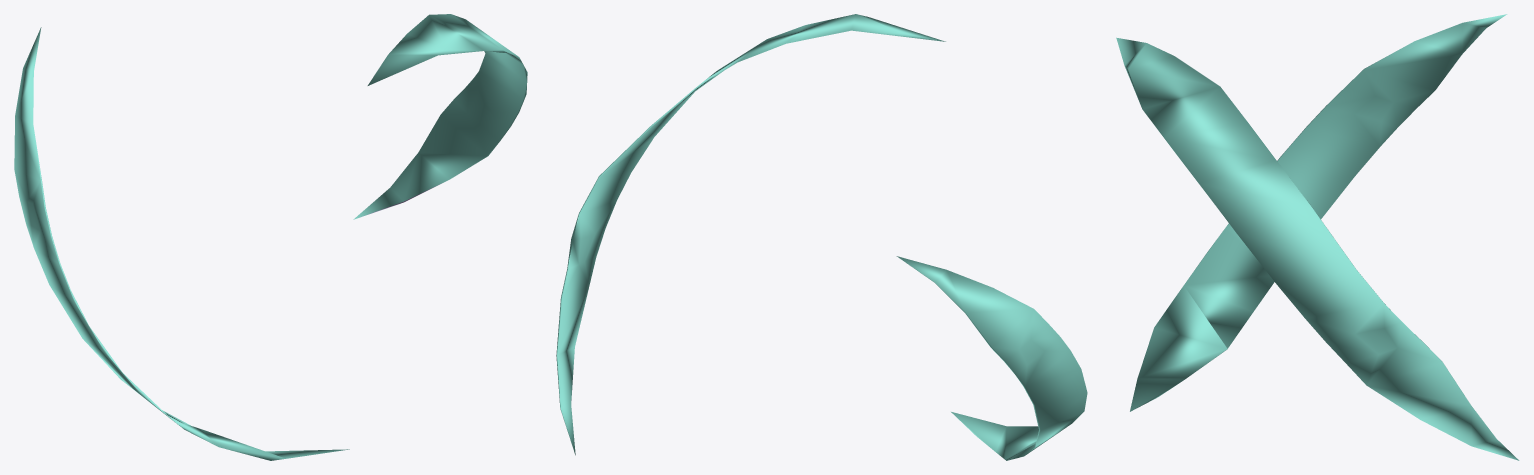
File: wind.gltf
3 views of the same model, side by side, from view 1: azimuth 30°, elevation 25°; view 2: azimuth 150°, elevation 25°; view 3: azimuth 270°, elevation 25° (orthographic). The views are drawn at different scales.
Visible parts, largest first — view 1: 風エフェクト.001; view 2: 風エフェクト.001; view 3: 風エフェクト.001.
Part boxes in pixels (bbox=[...]): 風エフェクト.001: bbox=[14, 14, 527, 460]; 風エフェクト.001: bbox=[556, 14, 1087, 460]; 風エフェクト.001: bbox=[1116, 14, 1519, 460].
Size of the model in its own units: 41.37 by 33.05 by 30.15.
Materials: 2 (2 with a texture image).
